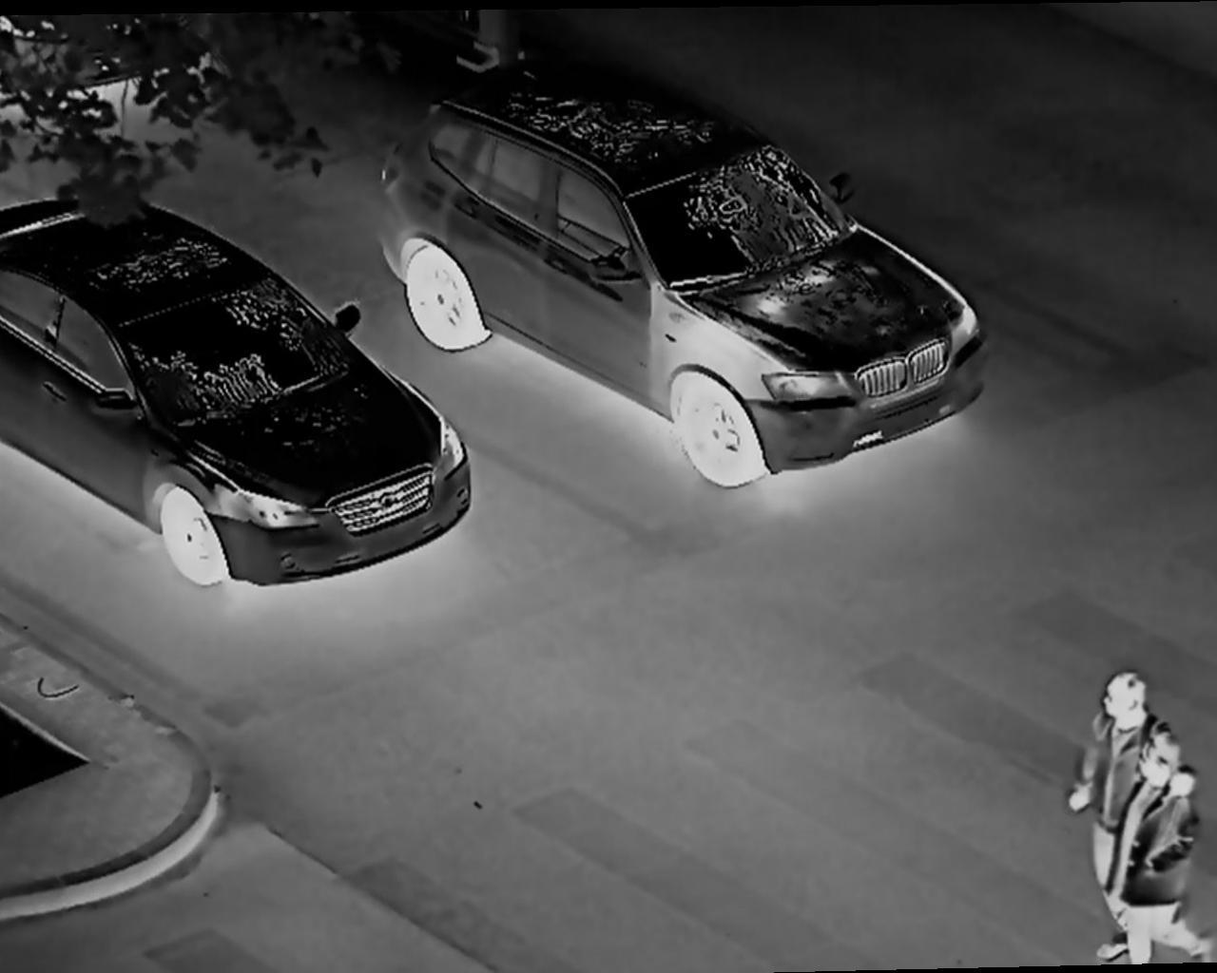person: (1123, 734, 1217, 959), (1068, 663, 1145, 904)
